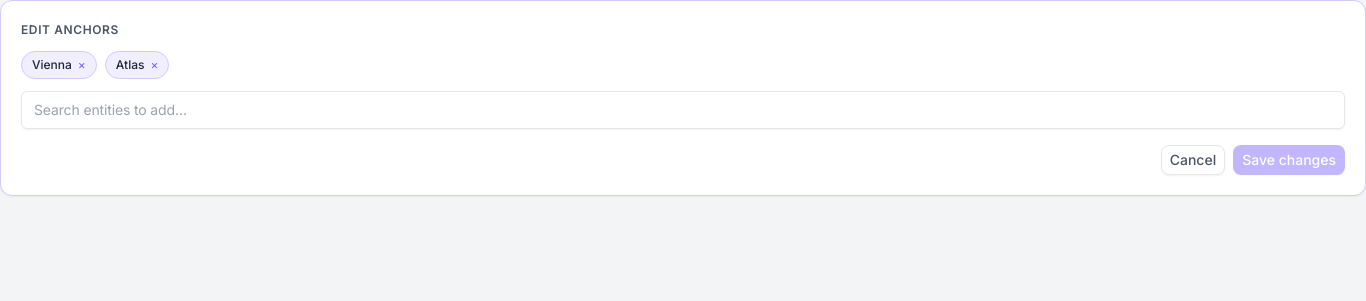
StorylineAnchorEditor › adding an entity via search shows it in the added diff
Type "sara" into the search field with test id "anchor-editor-search" at {"x": 683, "y": 110}, box [21,91,1345,129]
Wait 260 ms
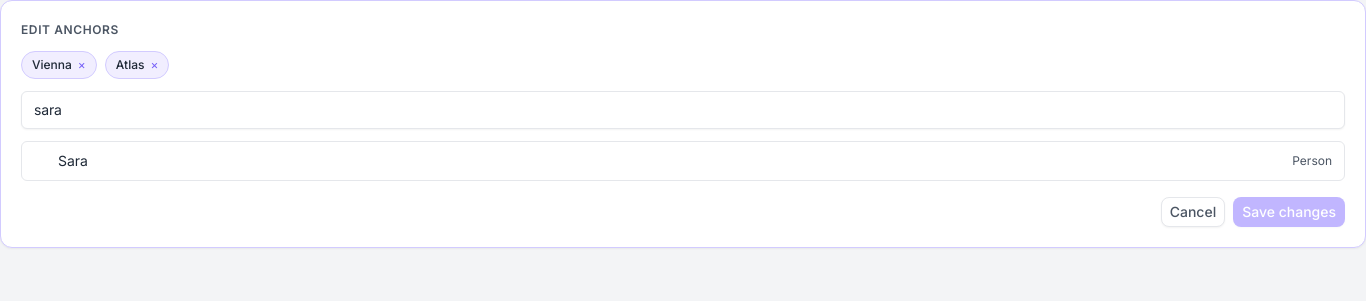
Click the list item with test id "anchor-editor-result" at {"x": 1312, "y": 160}, box [58,152,1332,169]
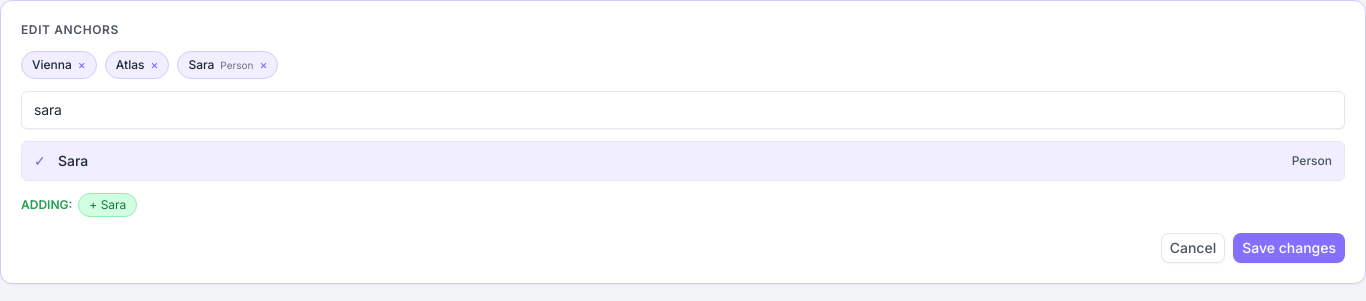
Check: the element with test id "anchor-diff-added" shows "Sara", box [89,197,126,212]
Check: the button with test id "anchor-editor-save" is enabled, box [1233,233,1345,263]
